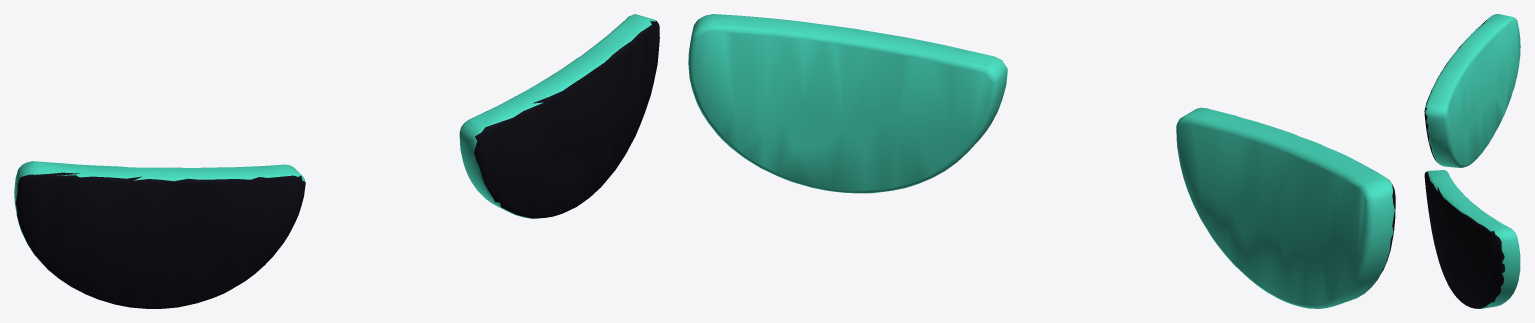
Rendered from eyes-sleepy.glb.
The picture shows the model from 3 angles, left to right: view 1: azimuth 30°, elevation 25°; view 2: azimuth 150°, elevation 25°; view 3: azimuth 270°, elevation 25°; orthographic projection. The views are drawn at different scales.
Visible parts, largest first — view 1: eyes-sleepy; view 2: eyes-sleepy; view 3: eyes-sleepy.
Part boxes in pixels (x1,y1,x2,y2): eyes-sleepy: [14, 14, 659, 308]; eyes-sleepy: [688, 14, 1395, 308]; eyes-sleepy: [1424, 14, 1520, 308].
Size of the model in its own units: 0.4869 by 0.1061 by 0.0876.
